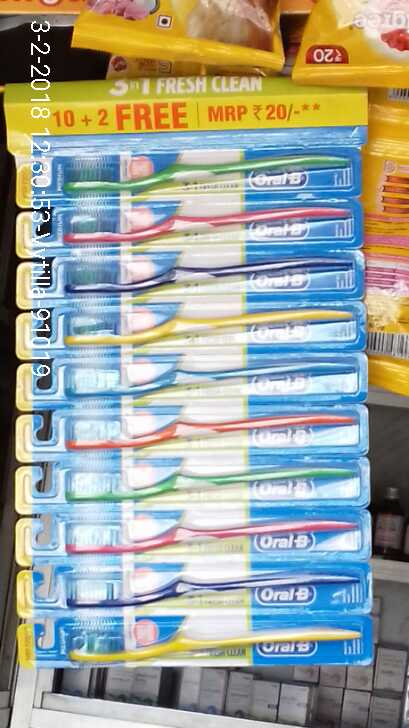oralb: (47, 198, 357, 250), (58, 512, 374, 559), (65, 562, 371, 608), (49, 146, 357, 191), (60, 459, 363, 504), (66, 612, 363, 657), (53, 405, 359, 448), (54, 354, 360, 396), (59, 305, 364, 345), (58, 253, 358, 292)
